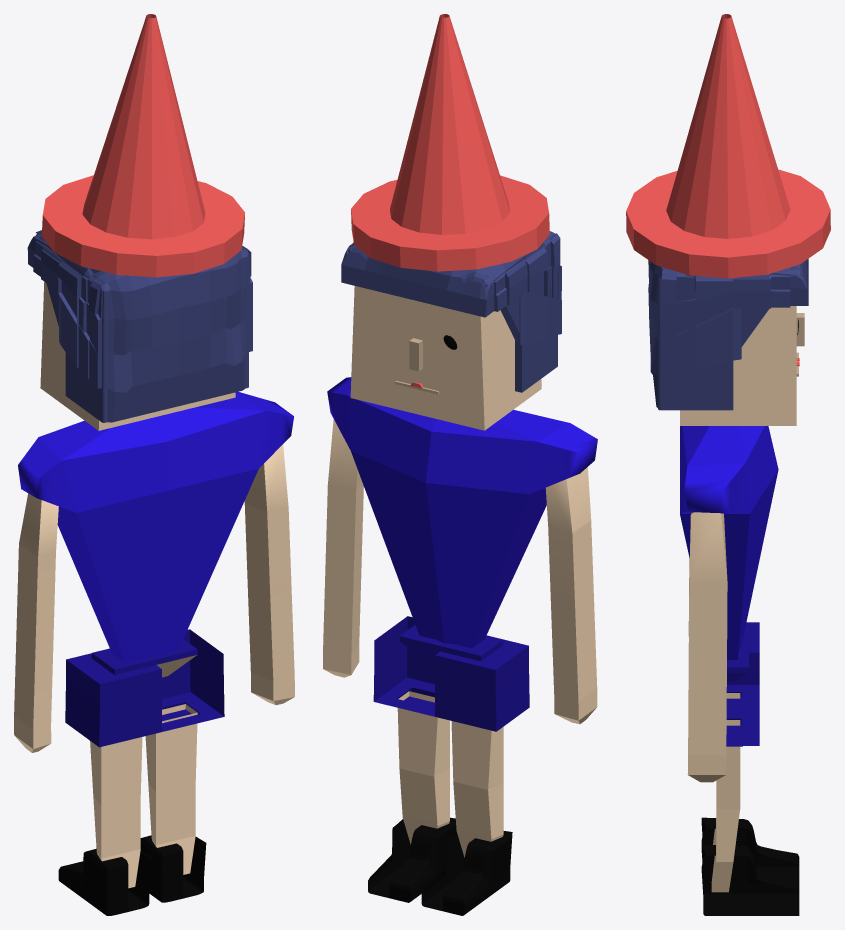
The model's file is copybuffer.glb.
3 views of the same model, side by side, from view 1: azimuth 30°, elevation 25°; view 2: azimuth 150°, elevation 25°; view 3: azimuth 270°, elevation 25° (orthographic). The views are drawn at different scales.
Parts seen in each view (by area): view 1: Cube.004; view 2: Cube.004; view 3: Cube.004.
Boxes of the visible parts, box(x1,y1,x2,y2) form: Cube.004: box(14, 14, 294, 915); Cube.004: box(323, 14, 597, 915); Cube.004: box(626, 14, 830, 915).
Bounding box in the file's own units: 4.39 × 14.12 × 2.98.
